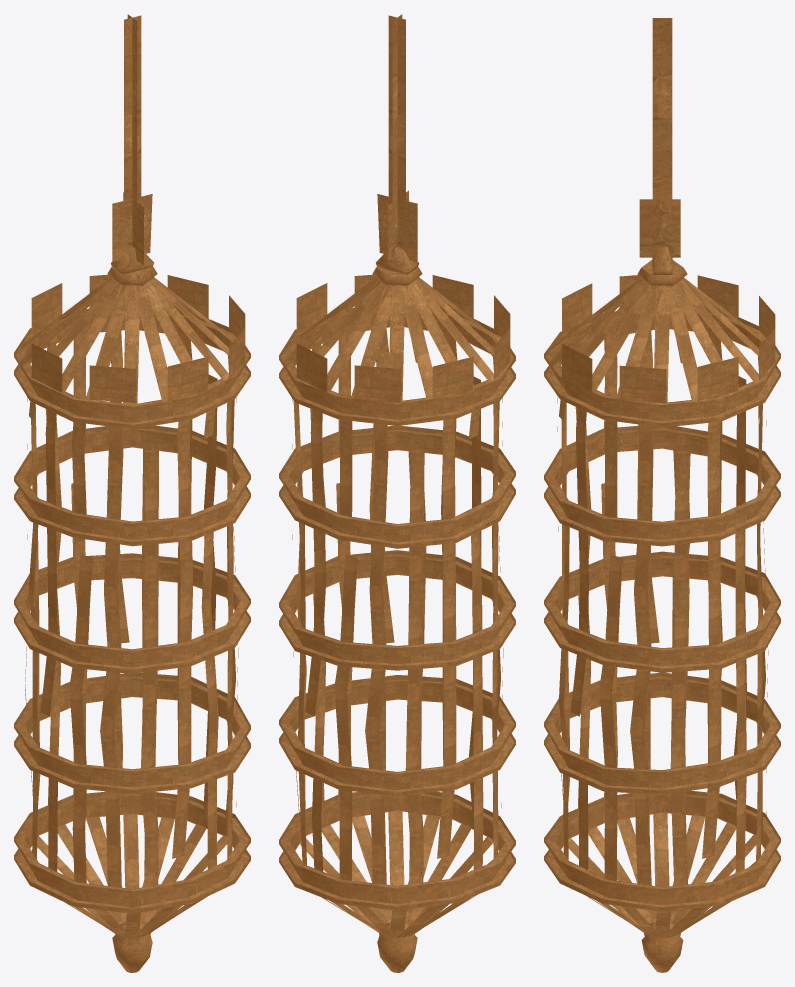
Rendered from aeg270_501.glb.
The picture shows the model from 3 angles, left to right: view 1: azimuth 30°, elevation 25°; view 2: azimuth 150°, elevation 25°; view 3: azimuth 270°, elevation 25°; orthographic projection.
Visible parts, largest first — view 1: mesh[3], mesh[2], mesh[1], mesh[0]; view 2: mesh[3], mesh[2], mesh[1], mesh[0]; view 3: mesh[3], mesh[2], mesh[1], mesh[0].
Boxes of the visible parts, <box> form: mesh[3]: <box>19,277,245,938</box>; mesh[2]: <box>14,309,250,913</box>; mesh[1]: <box>31,14,245,402</box>; mesh[0]: <box>107,246,157,972</box>; mesh[3]: <box>284,277,510,938</box>; mesh[2]: <box>279,308,515,910</box>; mesh[1]: <box>296,14,510,402</box>; mesh[0]: <box>372,246,422,972</box>; mesh[3]: <box>549,278,775,938</box>; mesh[2]: <box>544,310,780,911</box>; mesh[1]: <box>562,18,775,403</box>; mesh[0]: <box>637,246,687,972</box>.
Size of the model in its own units: 2.96 by 13.15 by 2.96.
Materials: 4 (4 with a texture image).
